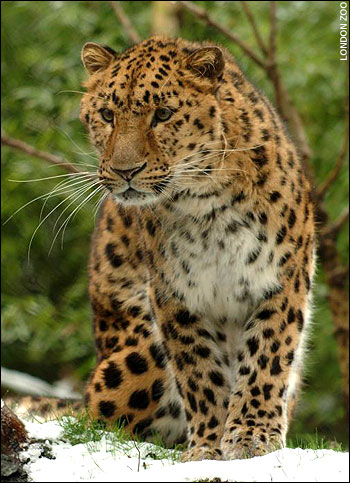amur_leopard: (54, 30, 274, 214)
